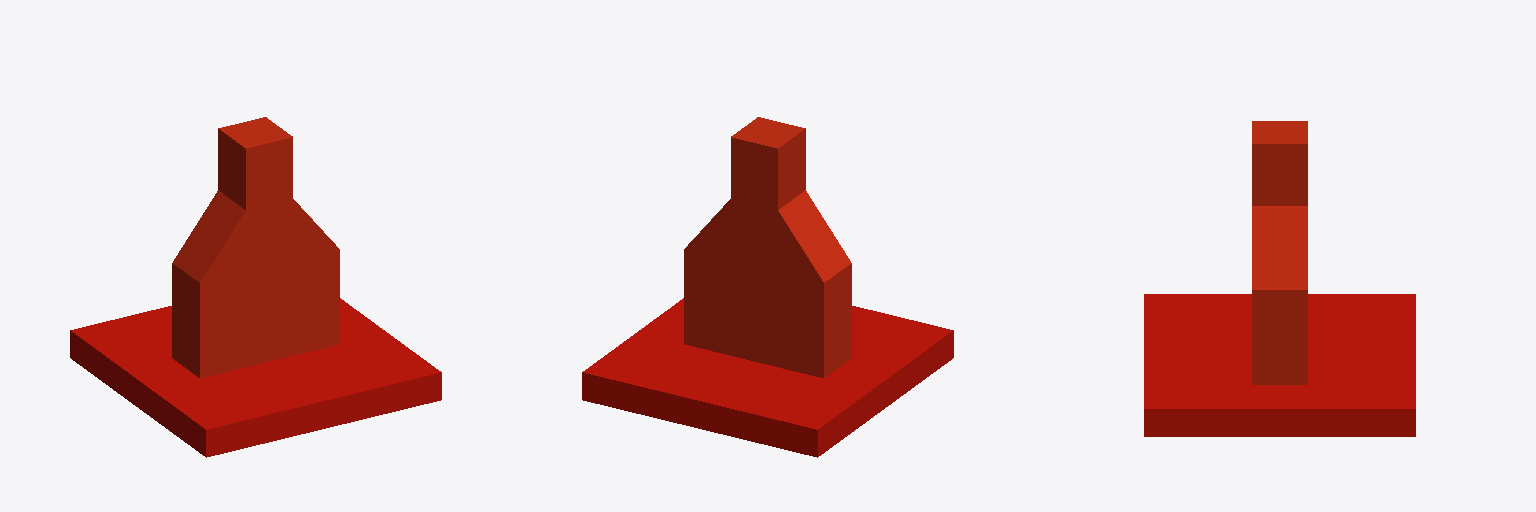
Rendered from player.obj.
3 renders of one model, left to right at view 1: azimuth 30°, elevation 25°; view 2: azimuth 150°, elevation 25°; view 3: azimuth 270°, elevation 25°, orthographic.
Parts seen in each view (by area): view 1: 立方体, Cube; view 2: 立方体, Cube; view 3: Cube, 立方体.
Boxes of the visible parts, x1,y1,x2,y2 form: 立方体: [172, 117, 339, 377]; Cube: [70, 298, 441, 457]; 立方体: [684, 117, 851, 377]; Cube: [582, 298, 953, 457]; Cube: [1144, 294, 1415, 436]; 立方体: [1252, 121, 1307, 384].
Bounding box in the file's own units: 1 × 1 × 1.